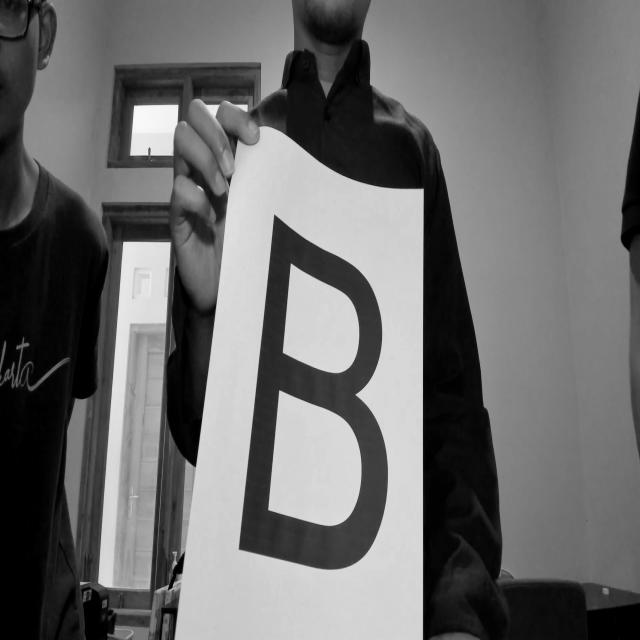b: (244, 194, 391, 596)
